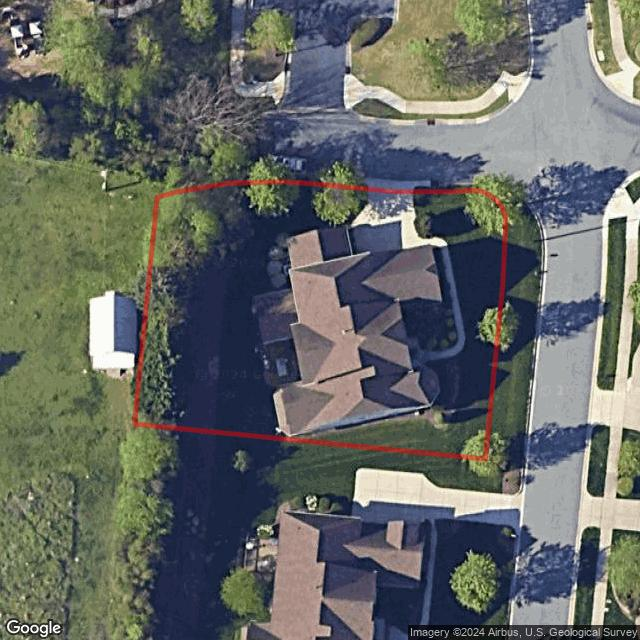Driveway: (347, 187, 420, 255)
Extra-Driveway: (356, 178, 429, 190)
Extra-Lawn: (413, 185, 543, 463)
House: (272, 225, 443, 437)
Lawn: (134, 181, 507, 460)
Other: (135, 184, 247, 431), (339, 358, 458, 430), (403, 246, 457, 352), (251, 289, 303, 391)
Sidewalk: (407, 237, 466, 370)
